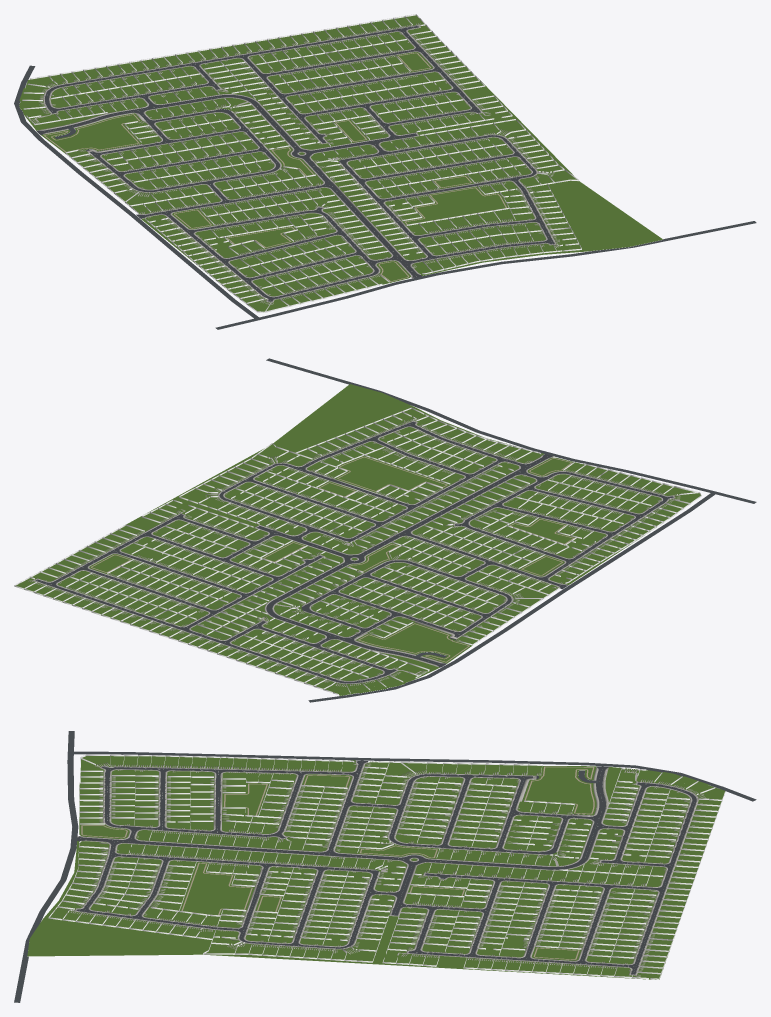
Rendered from ground.glb.
The picture shows the model from 3 angles, top to bottom: view 1: azimuth 30°, elevation 25°; view 2: azimuth 150°, elevation 25°; view 3: azimuth 270°, elevation 25°; orthographic projection. The views are drawn at different scales.
Visible parts, largest first — view 1: __ground_export; view 2: __ground_export; view 3: __ground_export.
Part boxes in pixels (<box>): __ground_export: <box>14,14,756,329</box>; __ground_export: <box>14,358,756,702</box>; __ground_export: <box>14,731,756,1002</box>.
Bounding box in the file's own units: 627 × 1.73 × 724.
